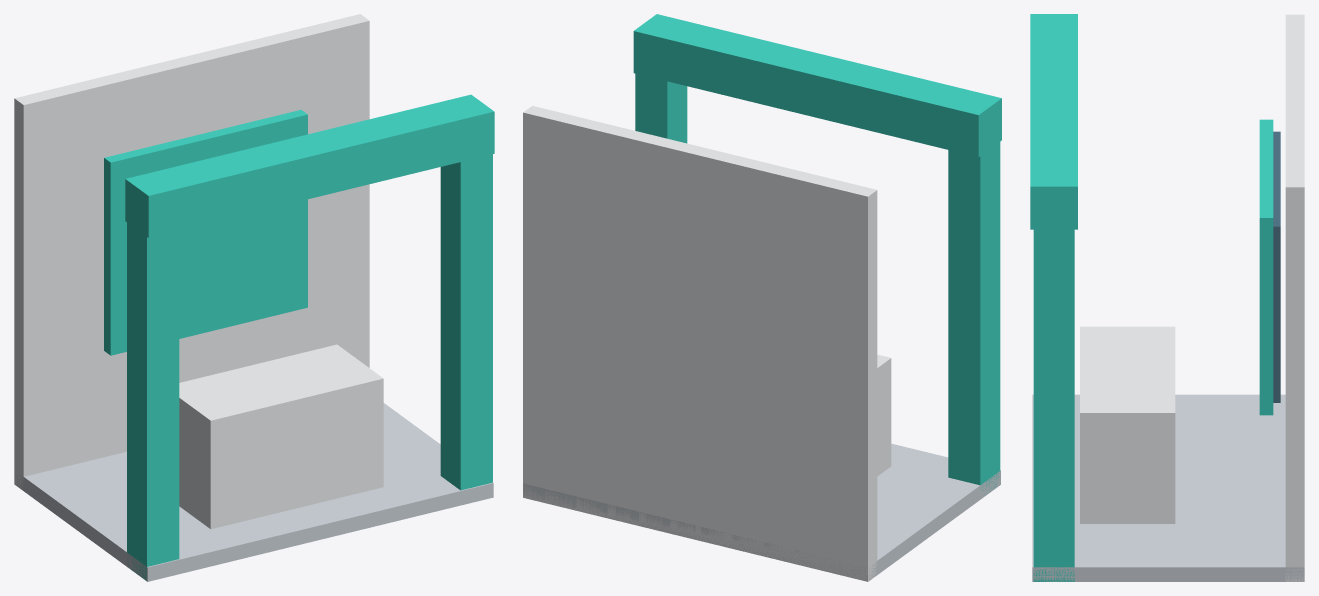
3 renders of one model, left to right at view 1: azimuth 30°, elevation 25°; view 2: azimuth 150°, elevation 25°; view 3: azimuth 270°, elevation 25°, orthographic. The views are drawn at different scales.
Parts seen in each view (by area): view 1: Exhibition Booth Concept; view 2: Exhibition Booth Concept; view 3: Exhibition Booth Concept.
Boxes of the visible parts, <box> form: Exhibition Booth Concept: <box>14,14,494,581</box>; Exhibition Booth Concept: <box>523,14,1001,581</box>; Exhibition Booth Concept: <box>1030,14,1304,581</box>.
Bounding box in the file's own units: 3 × 3.2 × 2.01.
